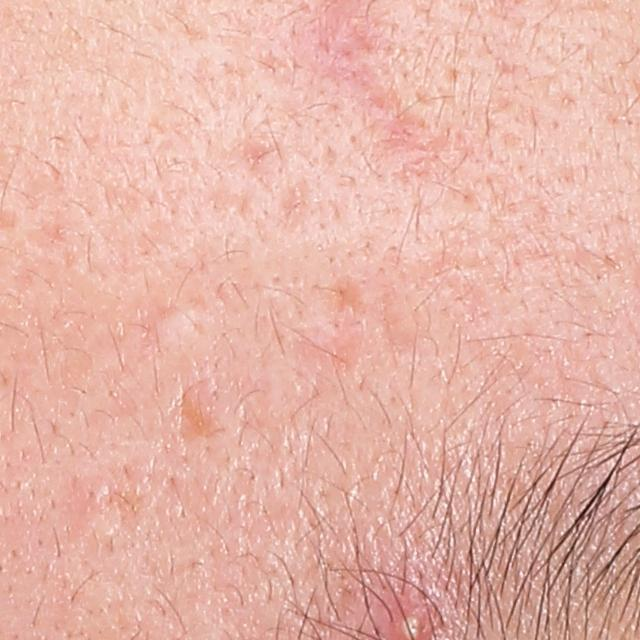atrophic_scar: (167, 380, 215, 451), (134, 303, 182, 358), (276, 181, 314, 234)
